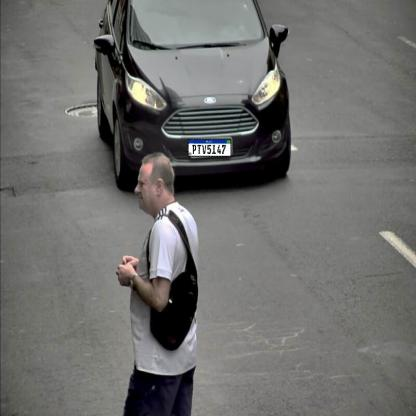PlacaM: (188, 139, 231, 156)
